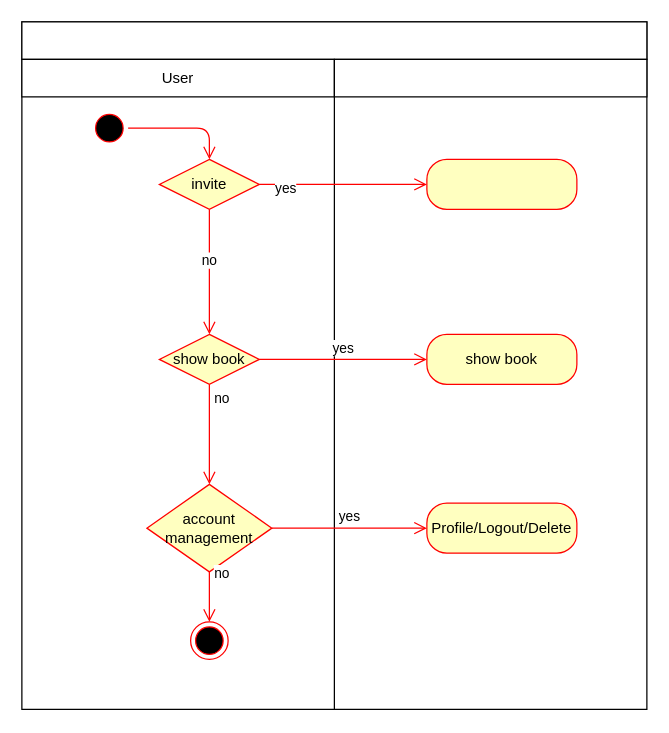
Image size: 669x733. Some labels were removed from this diagram. The shapes that lost their labels are listed below. From the top down, each one's centre as x and y in pixels, then its label:
At [334,40]: "Header".
At [490,77]: "Webapp".
At [501,183]: "Invitation/share".
